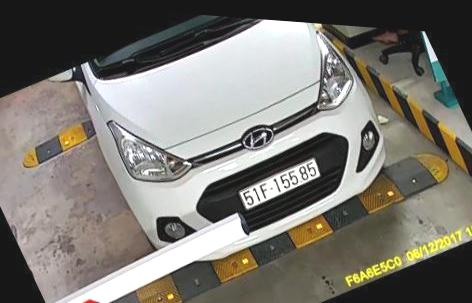License_Plate: (238, 155, 323, 220)
